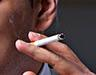smoke: (23, 32, 66, 48)
